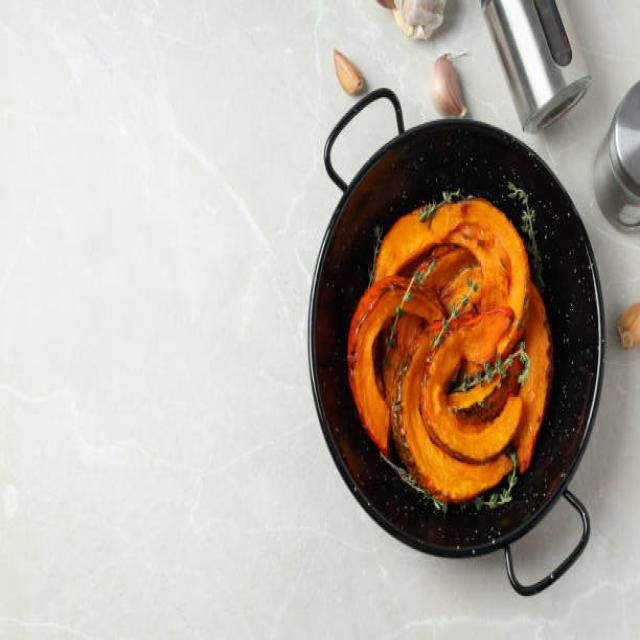pumpkin: (348, 199, 552, 502)
